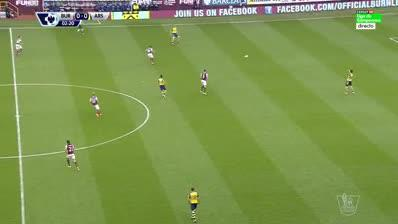futbol: (242, 53, 250, 60)
player: (60, 136, 82, 173), (185, 185, 205, 223), (87, 91, 106, 119), (342, 67, 359, 97), (197, 67, 212, 97), (156, 71, 170, 101), (169, 23, 184, 47), (14, 33, 27, 57), (146, 44, 159, 66)
